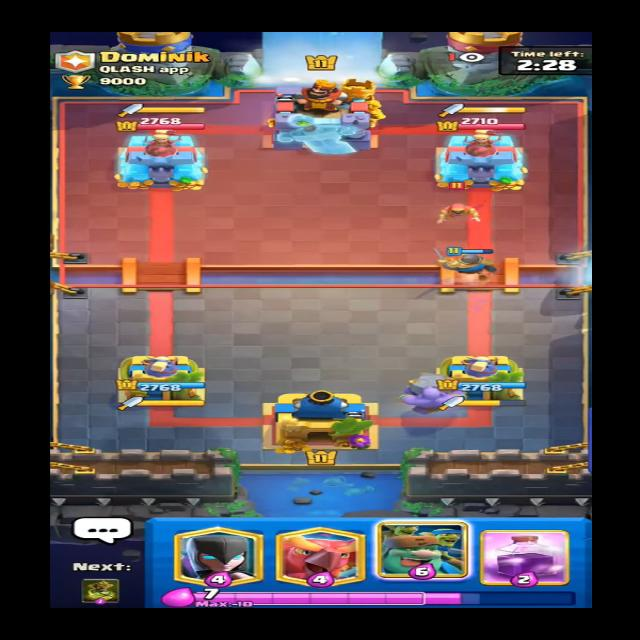wizard: (431, 183, 478, 220)
